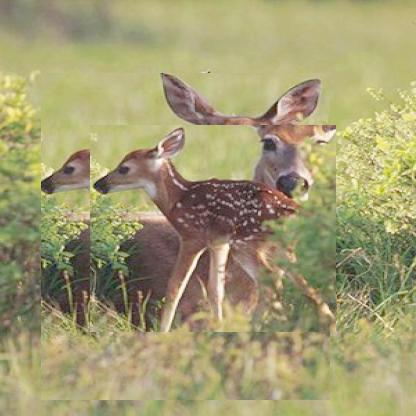Deer: (41, 73, 330, 400), (90, 125, 336, 332)
